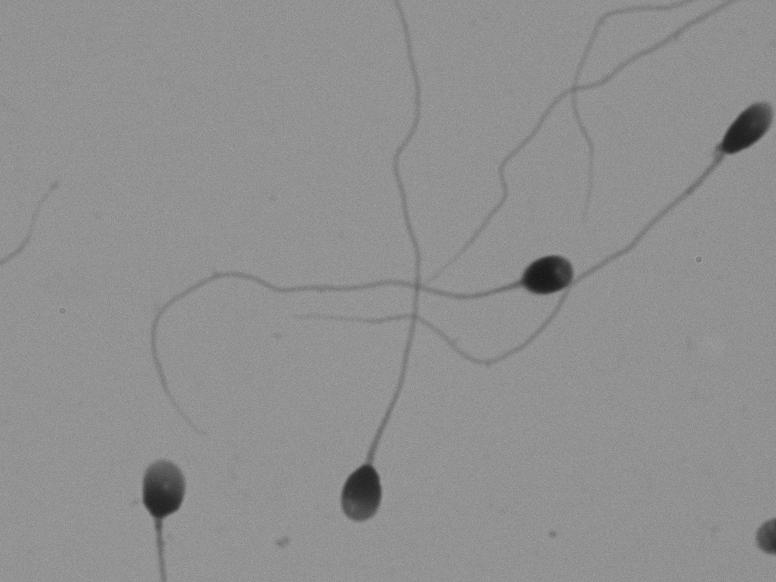Abnormal: (615, 39, 773, 307), (86, 443, 234, 568)
Normal: (120, 191, 589, 431), (311, 18, 451, 536)
